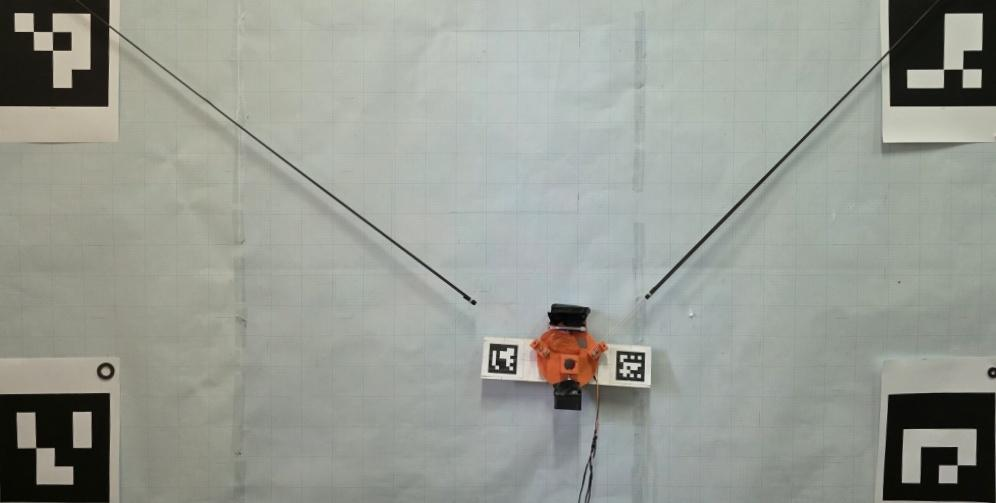robot: (530, 303, 609, 411)
